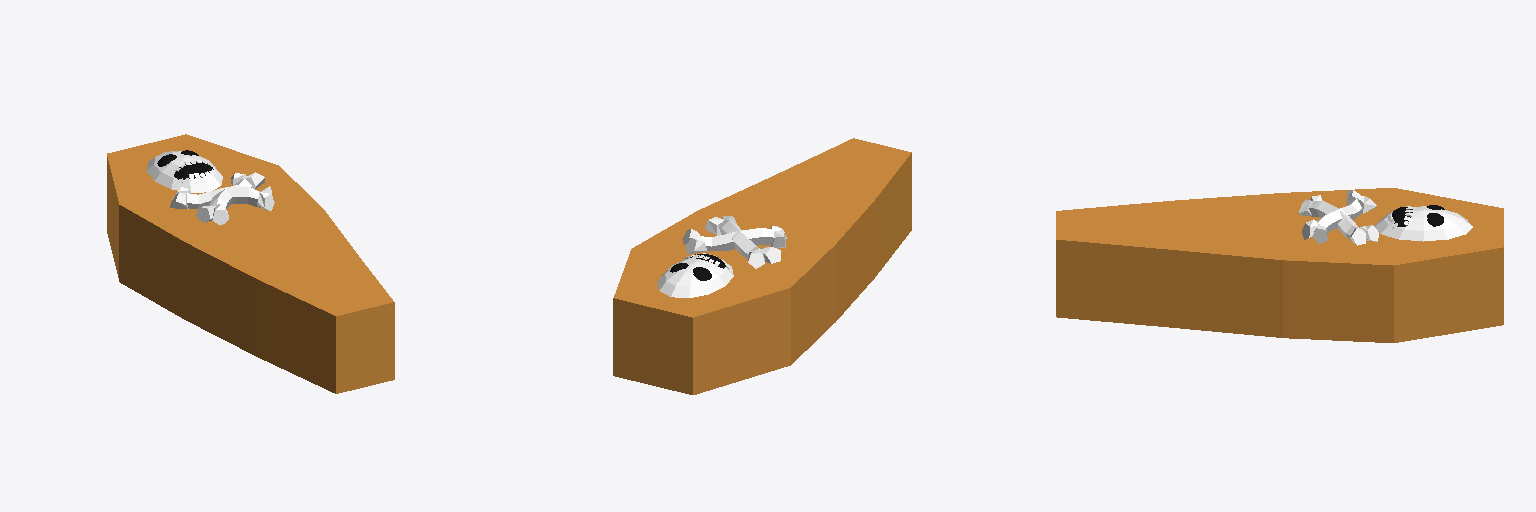
3 renders of one model, left to right at view 1: azimuth 30°, elevation 25°; view 2: azimuth 150°, elevation 25°; view 3: azimuth 270°, elevation 25°, orthographic.
Parts seen in each view (by area): view 1: group[number redacted], group[number redacted], group[number redacted]; view 2: group[number redacted], group[number redacted], group[number redacted], group[number redacted]; view 3: group[number redacted], group[number redacted], group[number redacted], group[number redacted].
Boxes of the visible parts, x1,y1,x2,y2 form: group[number redacted]: [107, 134, 394, 393]; group[number redacted]: [146, 151, 222, 192]; group[number redacted]: [187, 187, 259, 208]; group[number redacted]: [613, 138, 911, 394]; group[number redacted]: [657, 258, 733, 297]; group[number redacted]: [701, 228, 773, 250]; group[number redacted]: [718, 219, 759, 258]; group[number redacted]: [1056, 188, 1503, 342]; group[number redacted]: [1374, 206, 1472, 241]; group[number redacted]: [1309, 200, 1358, 239]; group[number redacted]: [1317, 199, 1361, 233].
Size of the model in its own units: 0.3 by 0.1743 by 0.73.